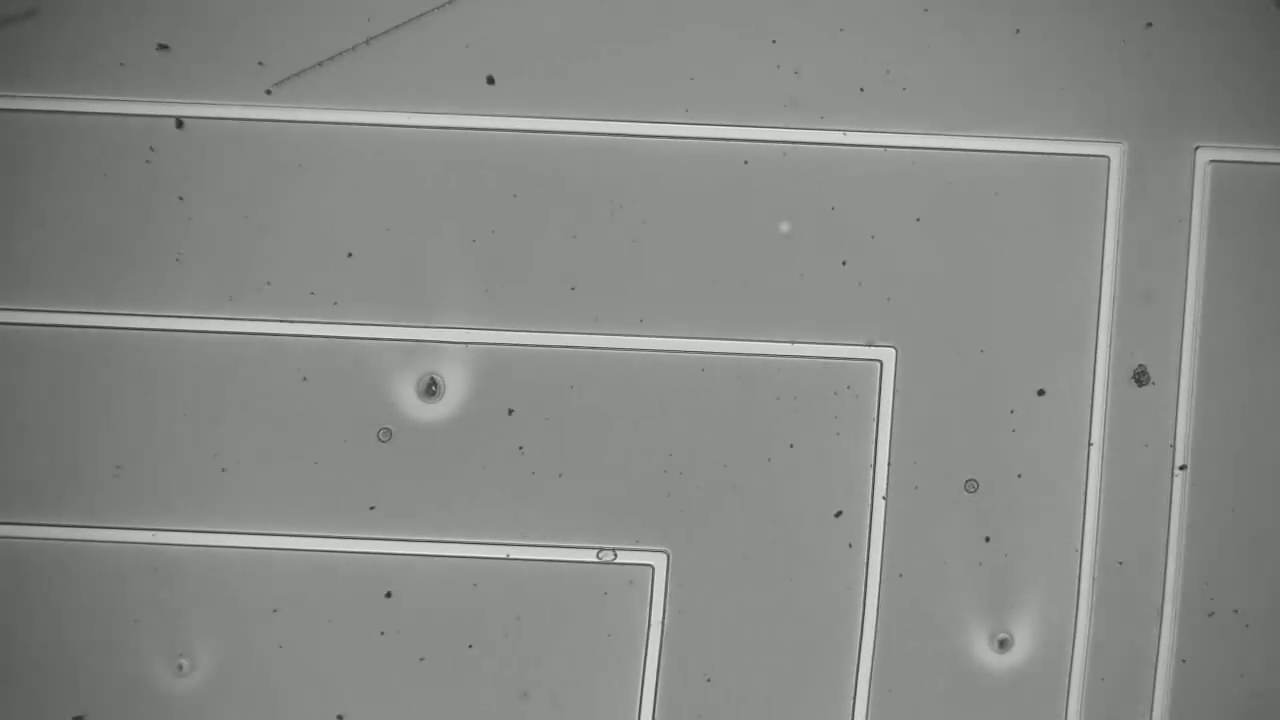scratch: (272, 1, 454, 92)
stains_enbedded: (584, 528, 628, 583)
